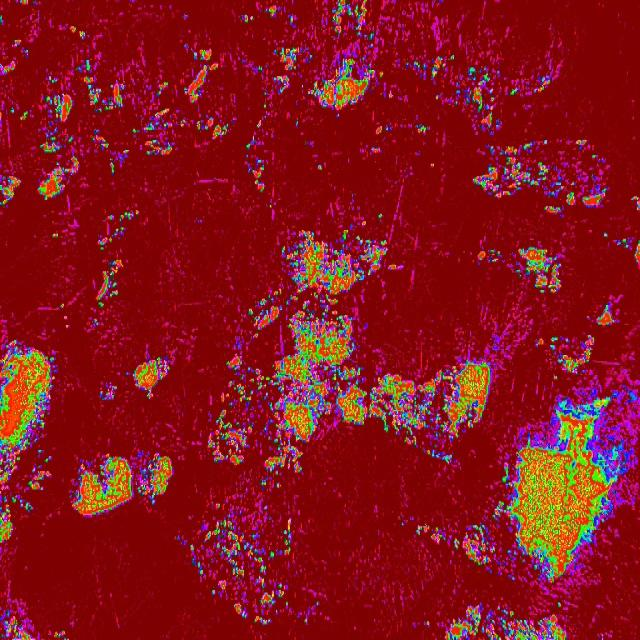fire: (208, 224, 494, 490), (494, 380, 640, 584), (176, 499, 299, 622), (0, 340, 58, 544), (472, 136, 618, 214), (403, 51, 503, 135), (70, 449, 175, 516), (129, 110, 238, 160), (439, 600, 570, 640), (36, 89, 80, 202), (308, 58, 376, 121), (532, 334, 596, 381), (80, 60, 130, 114), (512, 244, 562, 294), (184, 46, 224, 106), (330, 0, 378, 48), (457, 514, 494, 572), (88, 128, 130, 178), (96, 208, 138, 252), (271, 43, 306, 95), (240, 140, 270, 199), (132, 354, 172, 398), (96, 255, 125, 314), (1, 599, 42, 640), (598, 226, 640, 266), (412, 523, 457, 553), (252, 90, 273, 136), (1, 174, 22, 210), (592, 296, 615, 328), (532, 72, 556, 101), (302, 594, 322, 625), (148, 79, 168, 105), (96, 383, 118, 406), (68, 20, 88, 42), (45, 626, 75, 640), (13, 34, 30, 57), (262, 0, 282, 19), (58, 300, 70, 331), (493, 246, 510, 266), (630, 187, 640, 215), (236, 12, 252, 28), (48, 71, 62, 85), (50, 228, 64, 242), (288, 10, 298, 29), (508, 84, 522, 97), (17, 0, 35, 10), (383, 122, 393, 136), (422, 618, 432, 632), (316, 161, 326, 174), (376, 209, 385, 221), (256, 63, 264, 76), (293, 118, 301, 131), (20, 111, 30, 121), (180, 12, 189, 23), (123, 368, 133, 377), (0, 12, 5, 30), (376, 72, 388, 79), (92, 318, 100, 328), (9, 104, 16, 115), (74, 63, 80, 75)
